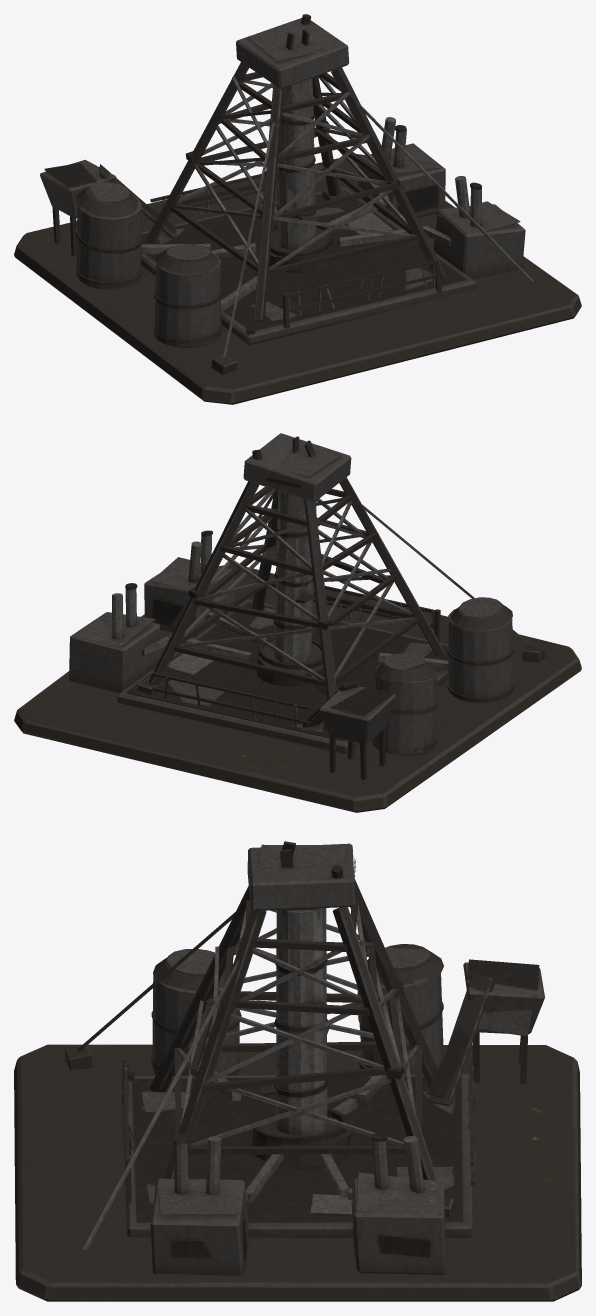
The model's file is chs_advextractor_wreck.fbx.
3 renders of one model, top to bottom at view 1: azimuth 30°, elevation 25°; view 2: azimuth 150°, elevation 25°; view 3: azimuth 270°, elevation 25°, orthographic. The views are drawn at different scales.
Parts seen in each view (by area): view 1: base_bar, drill_bar; view 2: base_bar, drill_bar; view 3: base_bar, drill_bar.
Part boxes in pixels (bbox=[...]): base_bar: bbox=[14, 14, 581, 404]; drill_bar: bbox=[264, 78, 334, 273]; base_bar: bbox=[14, 433, 581, 812]; drill_bar: bbox=[256, 491, 324, 686]; base_bar: bbox=[14, 841, 581, 1301]; drill_bar: bbox=[252, 908, 351, 1166].
Size of the model in its own units: 2394 by 1733 by 2356.
Materials: 2 (2 with a texture image).
